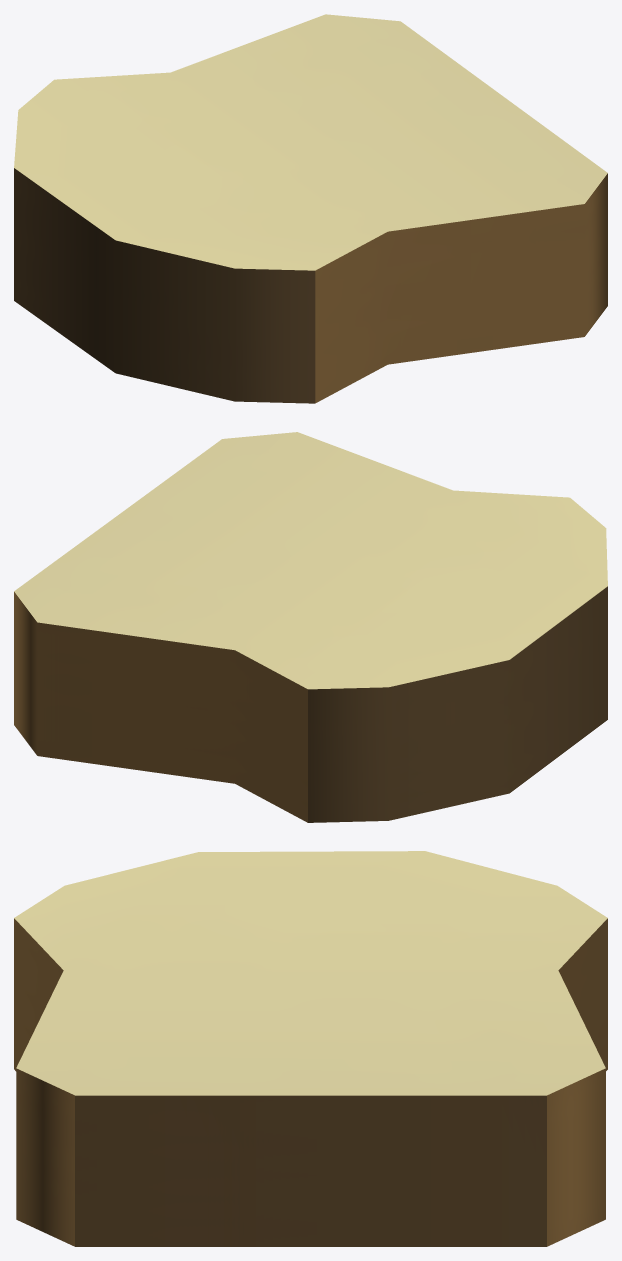
Rendered from toast_slice.fbx.
3 views of the same model, one above another, from view 1: azimuth 30°, elevation 25°; view 2: azimuth 150°, elevation 25°; view 3: azimuth 270°, elevation 25° (orthographic). The views are drawn at different scales.
Parts seen in each view (by area): view 1: toast_slice; view 2: toast_slice; view 3: toast_slice.
Part boxes in pixels (box(x1,y1,x2,y2)): toast_slice: box(14, 14, 607, 403); toast_slice: box(14, 432, 607, 822); toast_slice: box(14, 851, 607, 1246).
Size of the model in its own units: 29.73 by 8.58 by 30.53.
